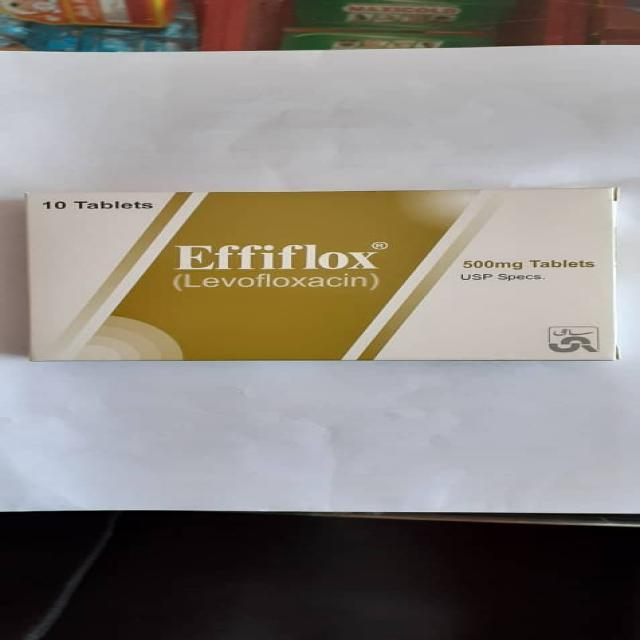drug-name: (175, 244, 377, 272)
